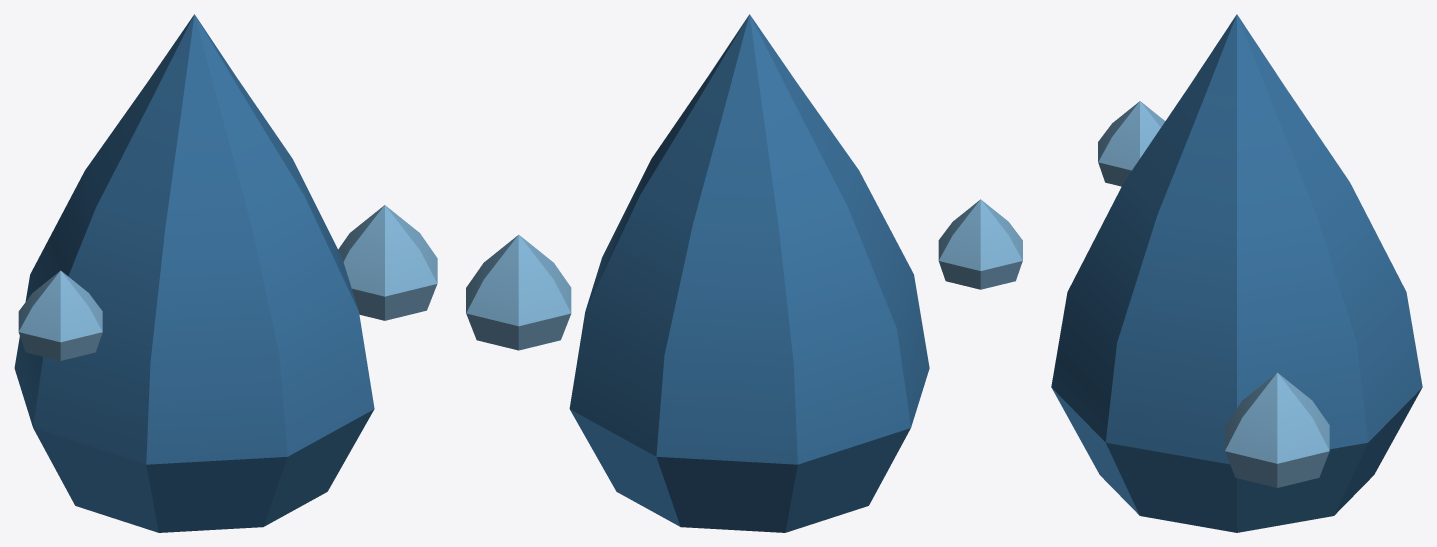
The model's file is emblem_water.fbx.
3 renders of one model, left to right at view 1: azimuth 30°, elevation 25°; view 2: azimuth 150°, elevation 25°; view 3: azimuth 270°, elevation 25°, orthographic.
Visible parts, largest first — view 1: emblem_water; view 2: emblem_water; view 3: emblem_water.
Boxes of the visible parts, left/top/right/bottom form: emblem_water: left=14, top=14, right=437, bottom=532; emblem_water: left=466, top=14, right=1022, bottom=532; emblem_water: left=1051, top=14, right=1422, bottom=532.
Size of the model in its own units: 0.695 by 0.68 by 0.46.
